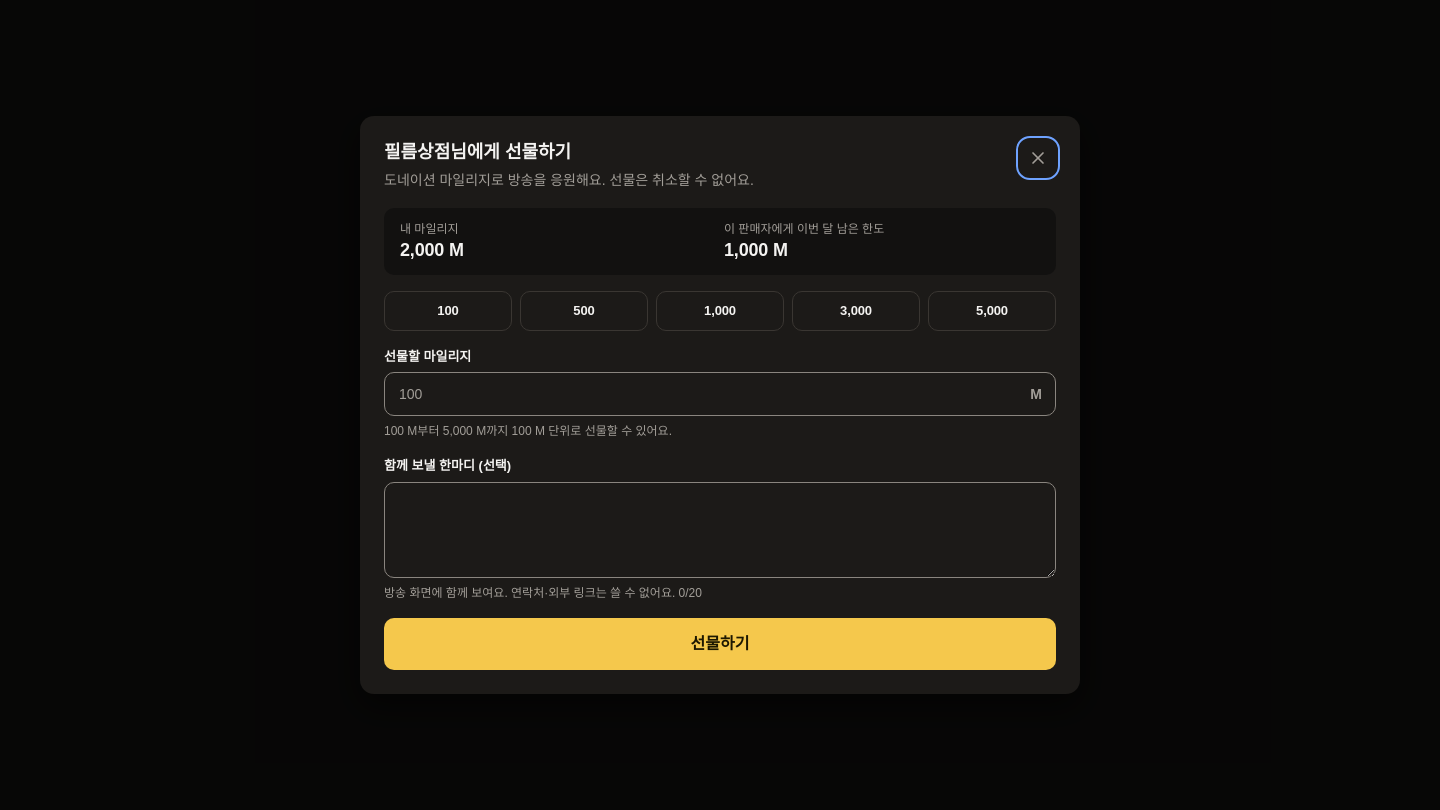
Test: DonationDialog › 금액 버튼으로 고르고 한마디와 함께 선물하면, 선물했다고 알려 주고 다음 선물에는 새 요청 키를 쓴다
This screenshot has width=1440, height=810.
Expected: the text "2,000 M" is shown, left=400, top=240, right=464, bottom=260
Click the button "500" at (584, 311), box left=520, top=291, right=648, bottom=331
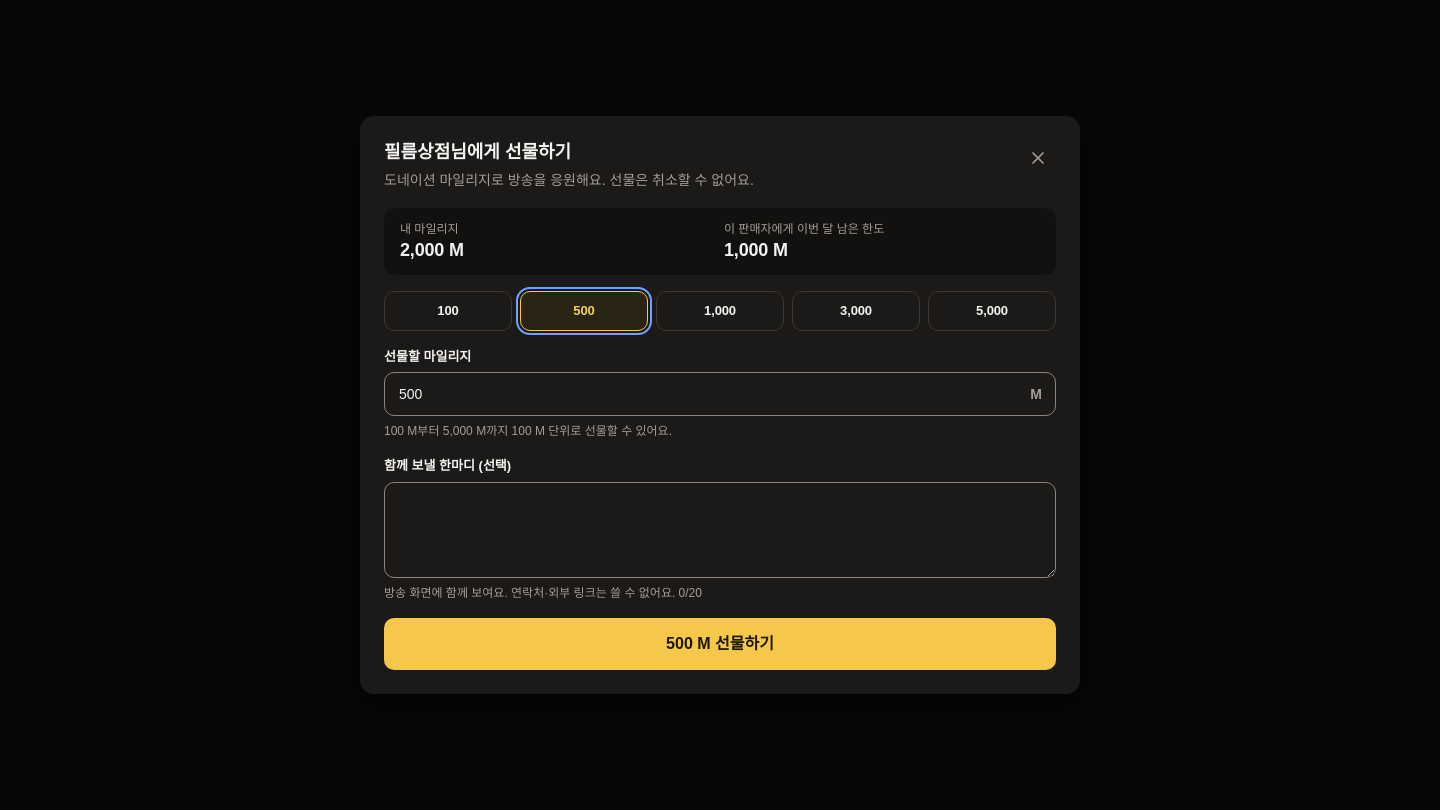
Type "오늘 방송 최고예요" into the text box labelled "함께 보낼 한마디 (선택)" at (720, 530), box left=384, top=482, right=1056, bottom=578
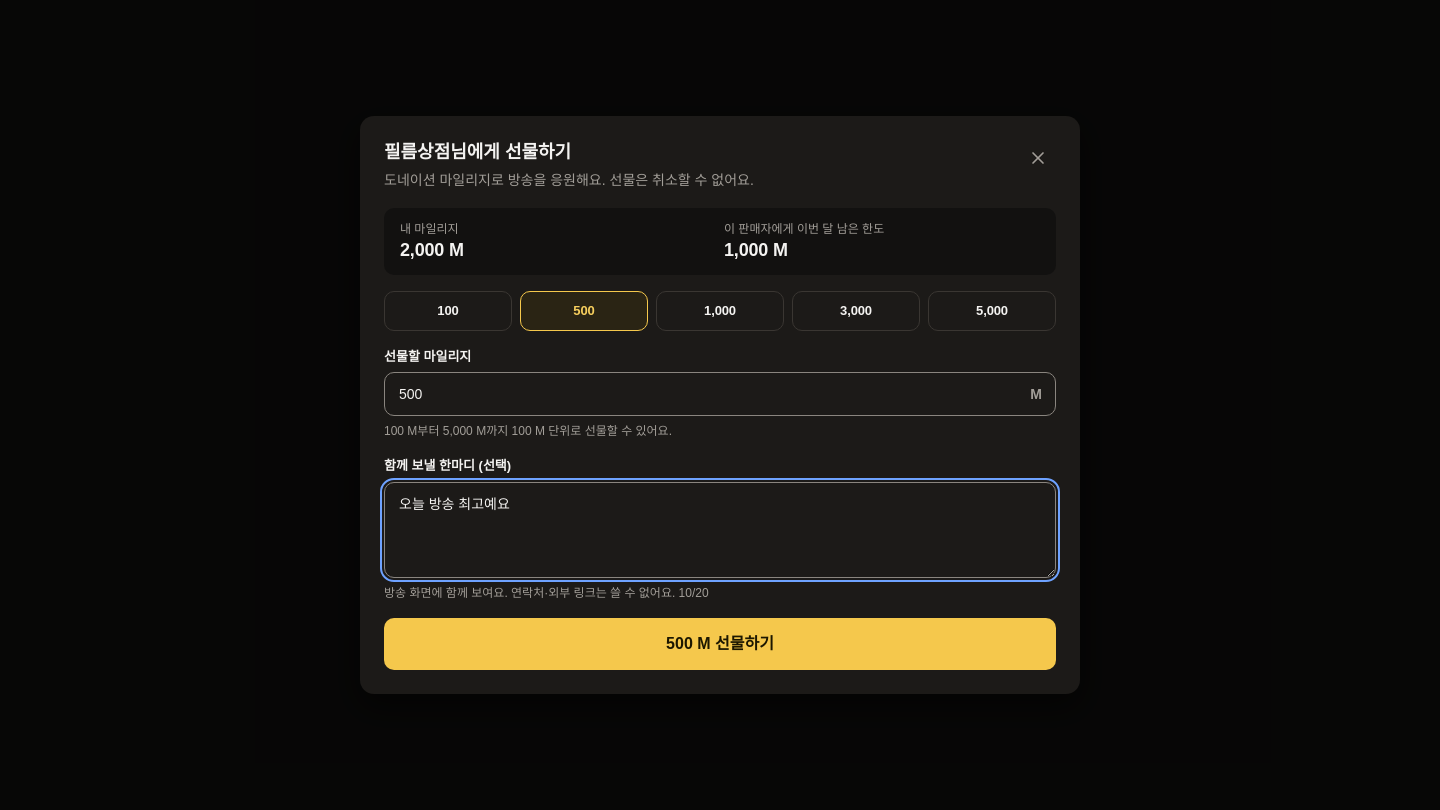
Click the button "500 M 선물하기" at (720, 644), box left=384, top=618, right=1056, bottom=670
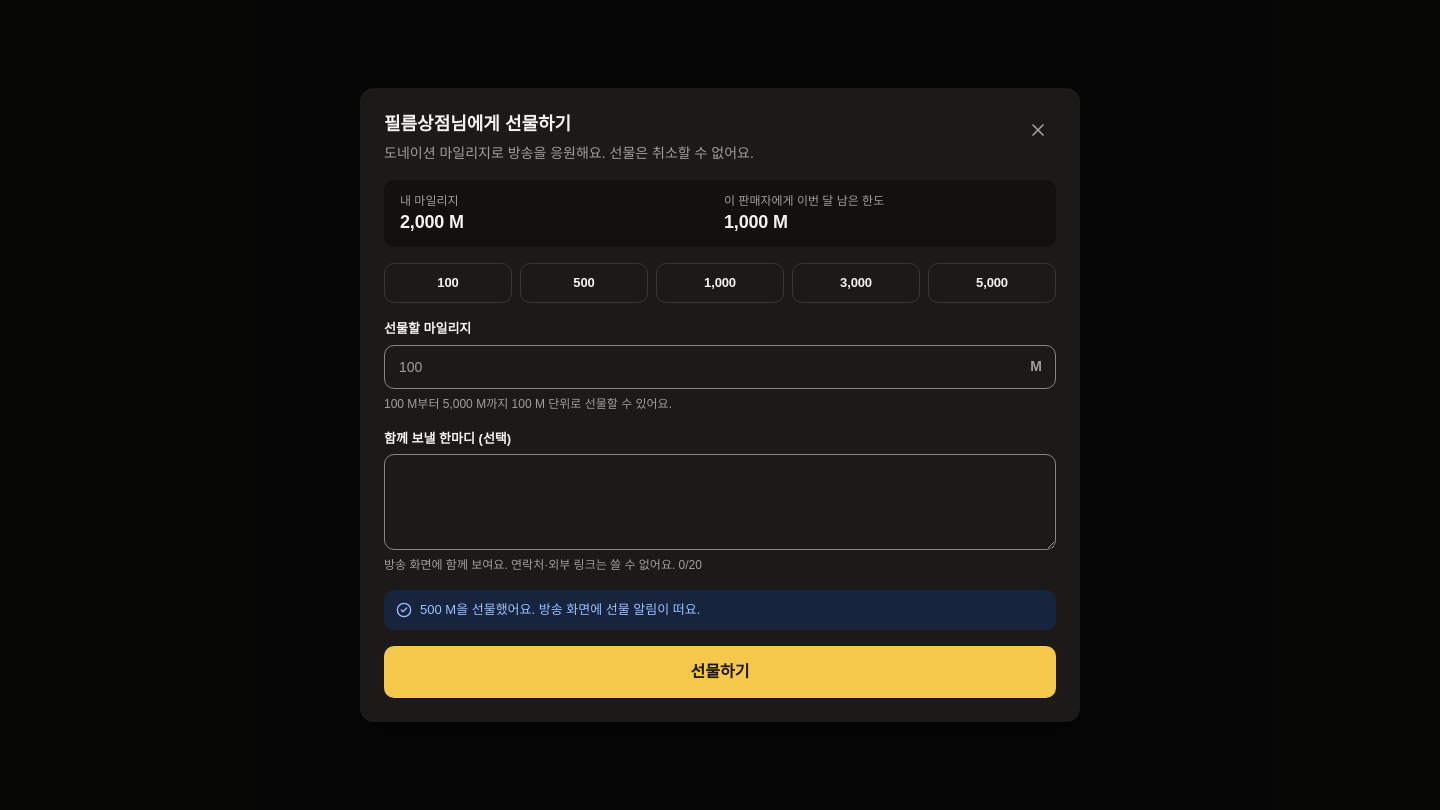
Expected: the text "500 M을 선물했어요. 방송 화면에 선물 알림이 떠요." is shown, left=420, top=600, right=700, bottom=620
Click the button "100" at (448, 283), box left=384, top=263, right=512, bottom=303
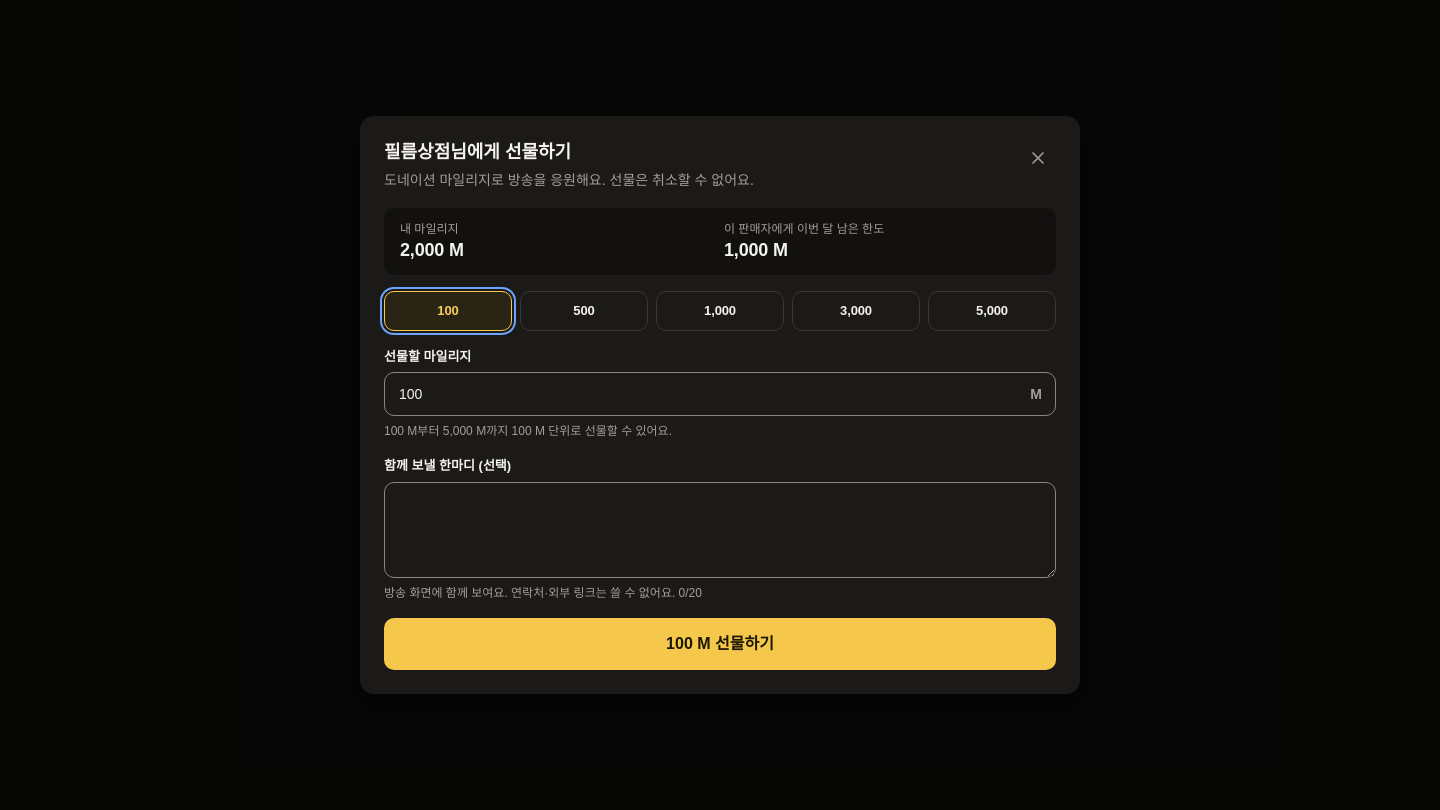
Click the button "100 M 선물하기" at (720, 644), box left=384, top=618, right=1056, bottom=670
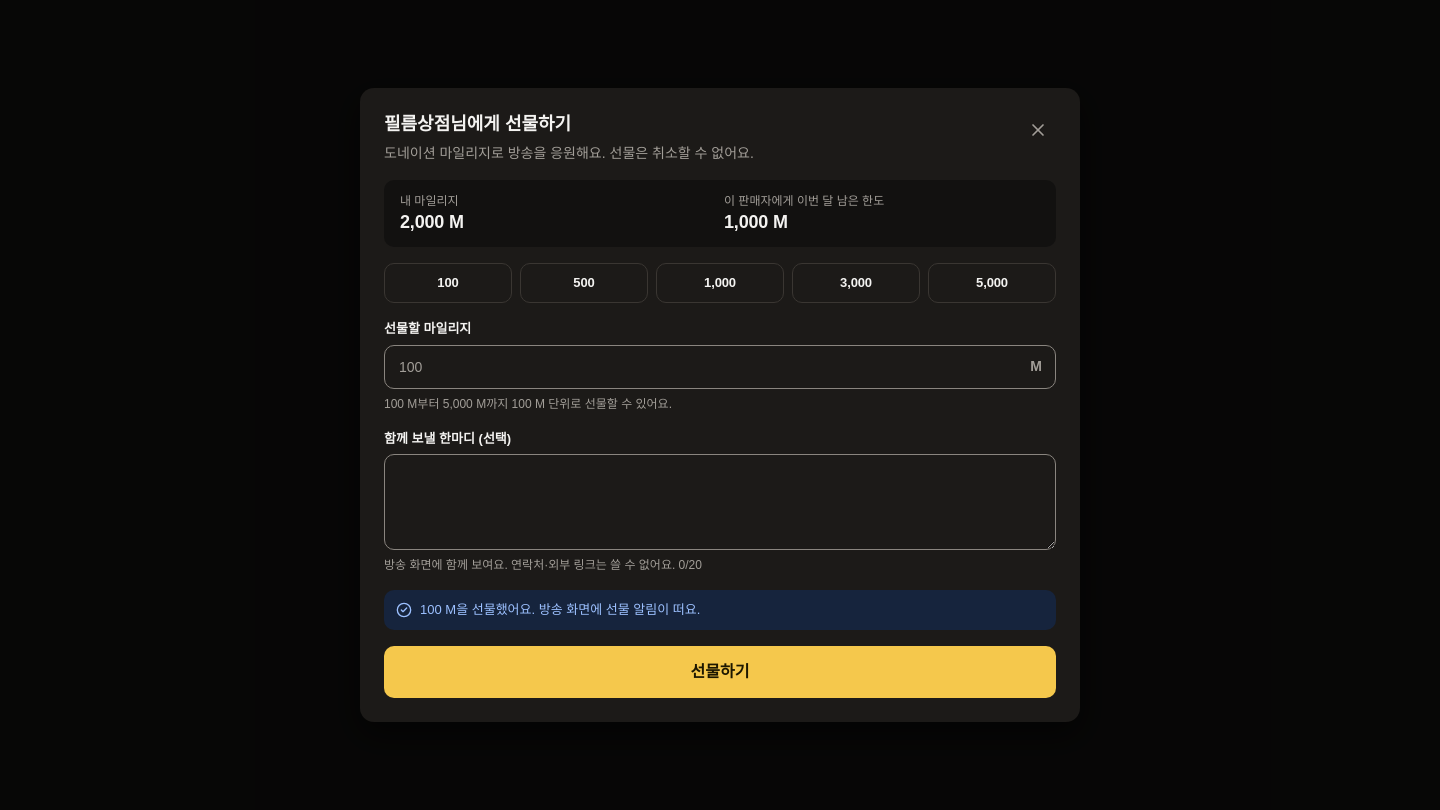
Expected: the text "100 M을 선물했어요. 방송 화면에 선물 알림이 떠요." is shown, left=420, top=600, right=700, bottom=620
